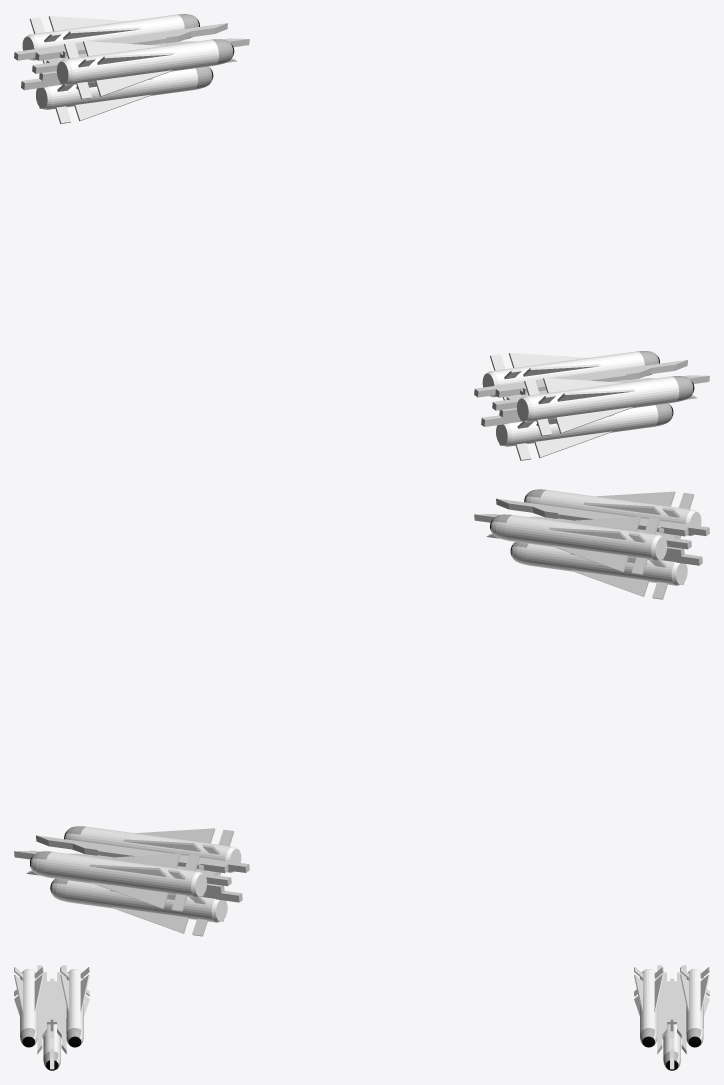
The model's file is a10cagm6517.glb.
The picture shows the model from 3 angles, top to bottom: view 1: azimuth 30°, elevation 25°; view 2: azimuth 150°, elevation 25°; view 3: azimuth 270°, elevation 25°; orthographic projection. The views are drawn at different scales.
Visible parts, largest first — view 1: 立方体.014, 立方体.010, 立方体.012, 立方体.016, 立方体.015, 立方体.011, 立方体.009, 立方体.013; view 2: 立方体.011, 立方体.015, 立方体.016, 立方体.012, 立方体.014, 立方体.010, 立方体.013, 立方体.009; view 3: 立方体.013, 立方体.009, 立方体.015, 立方体.011, 立方体.010, 立方体.014, 立方体.016, 立方体.012.
Boxes of the visible parts, left/top/right/bottom form: 立方体.014: left=56, top=39, right=234, bottom=99; 立方体.010: left=517, top=376, right=694, bottom=436; 立方体.012: left=496, top=403, right=673, bottom=460; 立方体.016: left=36, top=66, right=213, bottom=123; 立方体.015: left=22, top=14, right=199, bottom=63; 立方体.011: left=482, top=351, right=659, bottom=400; 立方体.009: left=474, top=360, right=709, bottom=426; 立方体.013: left=14, top=23, right=249, bottom=90; 立方体.011: left=490, top=514, right=667, bottom=574; 立方体.015: left=30, top=851, right=206, bottom=911; 立方体.016: left=50, top=878, right=227, bottom=936; 立方体.012: left=510, top=542, right=687, bottom=599; 立方体.014: left=64, top=826, right=241, bottom=875; 立方体.010: left=524, top=489, right=701, bottom=538; 立方体.013: left=14, top=835, right=249, bottom=902; 立方体.009: left=474, top=498, right=709, bottom=565; 立方体.013: left=657, top=965, right=686, bottom=1069; 立方体.009: left=37, top=965, right=66, bottom=1069; 立方体.015: left=680, top=967, right=709, bottom=1047; 立方体.011: left=60, top=967, right=89, bottom=1047; 立方体.010: left=14, top=967, right=43, bottom=1047; 立方体.014: left=634, top=967, right=663, bottom=1047; 立方体.016: left=662, top=1024, right=681, bottom=1070; 立方体.012: left=43, top=1024, right=61, bottom=1070.
Size of the model in its own units: 3.2 by 1.18 by 13.23.
Materials: 6 (1 with a texture image).
